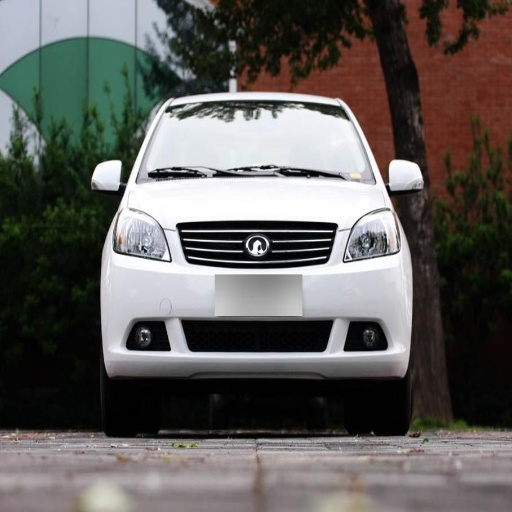front_bumper: (108, 226, 412, 376)
front_right_light: (113, 210, 171, 262)
hood: (128, 178, 386, 226)
left_mirror: (387, 160, 425, 195)
